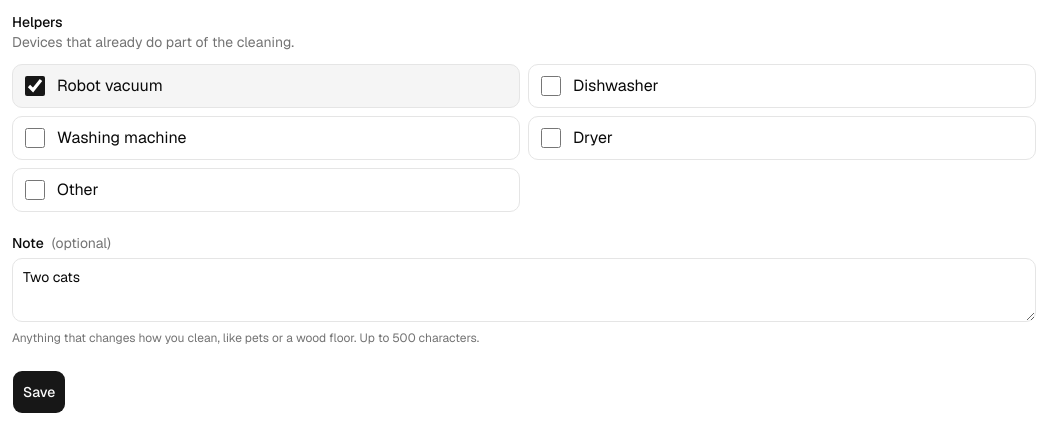
Test: HomeProfileForm › AC1: shows the saved helpers and note, and submits the changes
Expected: the checkbox labelled "Robot vacuum" is checked, [25,76,45,96]
Expected: the element "Helpers" is shown, [12,12,1036,212]
Click the checkbox labelled "Dishwasher".
click(551, 86)  # box [541,76,561,96]
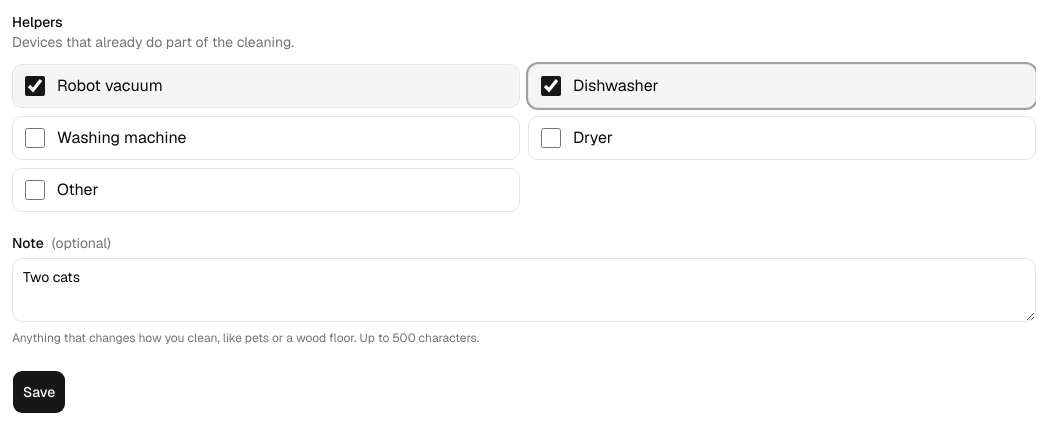
Click the button "Save".
click(39, 392)  # box [12,370,66,414]
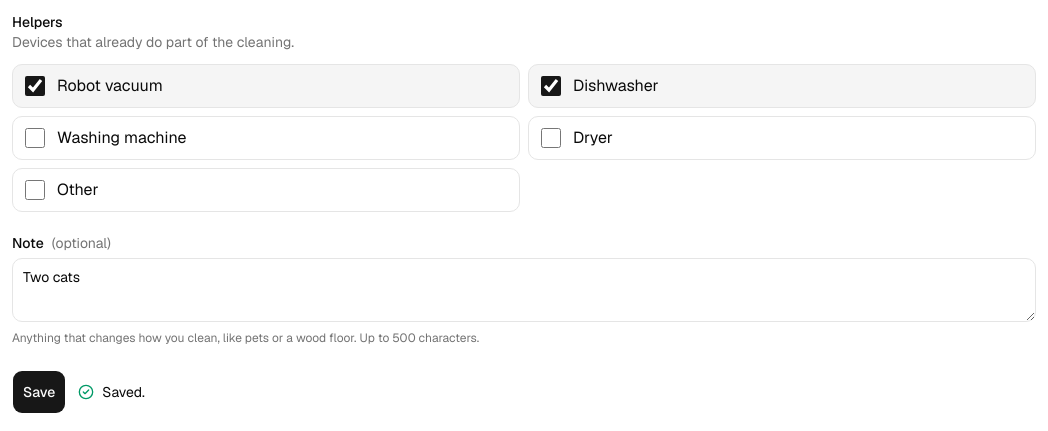
Result: the message reads "Saved." at [102,383,145,401]
